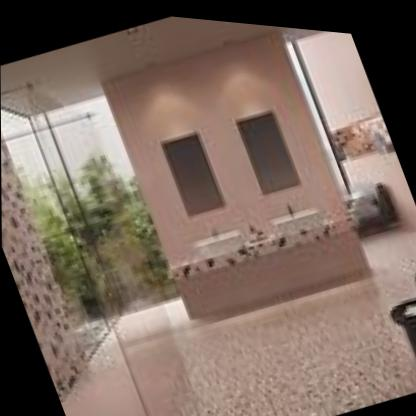Window: (0, 60, 187, 348)
